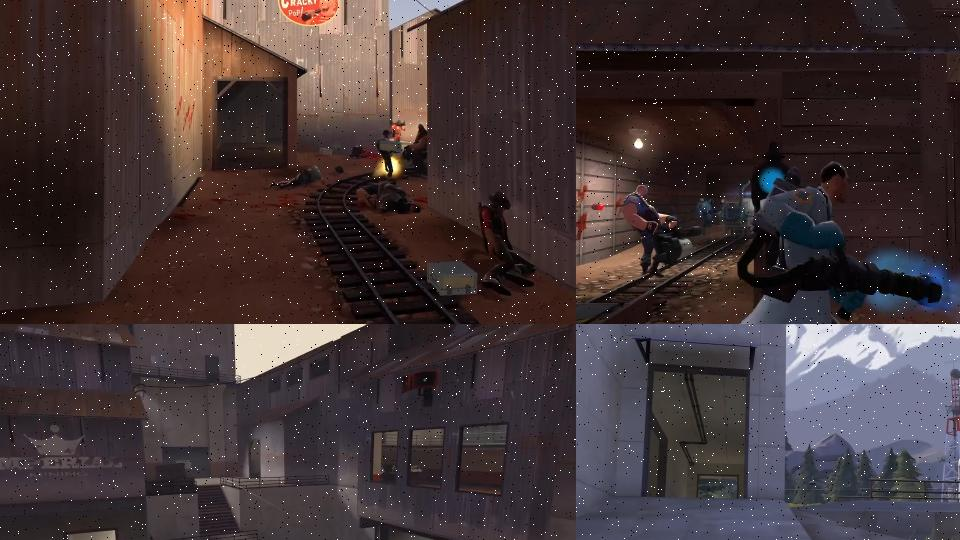Enemy: (645, 161, 943, 324), (466, 186, 540, 297), (623, 185, 703, 280), (402, 121, 429, 178), (698, 196, 722, 234), (388, 119, 407, 141)
